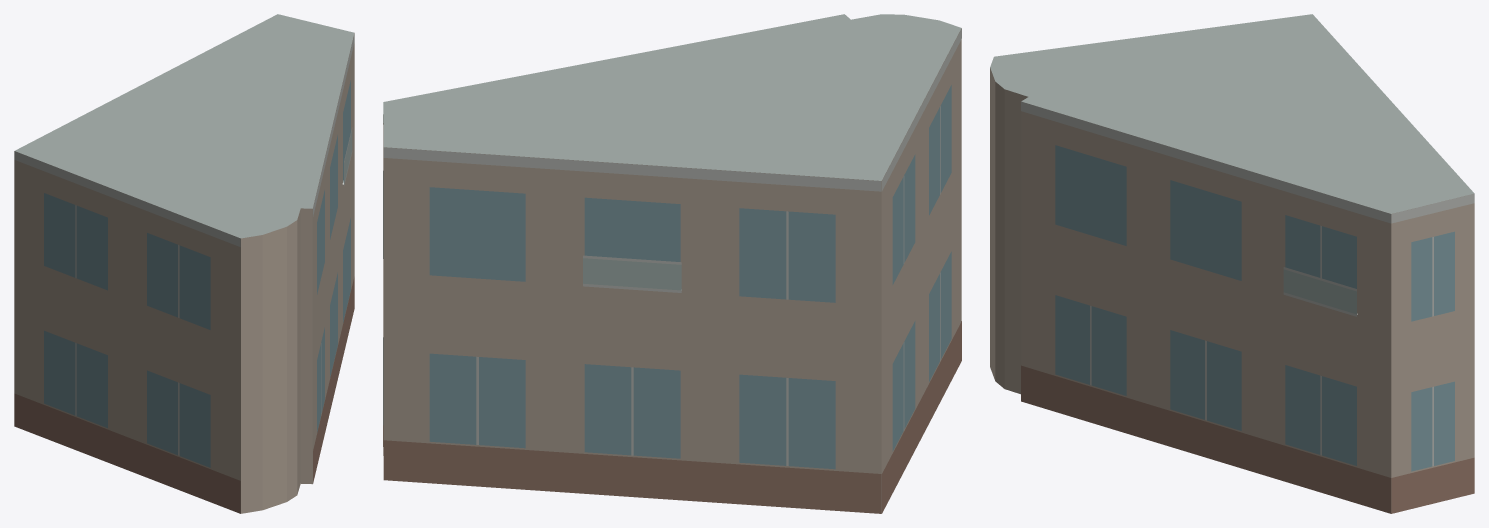
The model's file is survey-upis-32659539.glb.
The picture shows the model from 3 angles, left to right: view 1: azimuth 30°, elevation 25°; view 2: azimuth 150°, elevation 25°; view 3: azimuth 270°, elevation 25°; orthographic projection. The views are drawn at different scales.
Parts seen in each view (by area): view 1: survey-upis-32659539.tmp; view 2: survey-upis-32659539.tmp; view 3: survey-upis-32659539.tmp.
Boxes of the visible parts, x1,y1,x2,y2 form: survey-upis-32659539.tmp: (14,14,354,513); survey-upis-32659539.tmp: (383,14,961,513); survey-upis-32659539.tmp: (990,14,1474,513).
Size of the model in its own units: 10.88 by 7.6 by 11.14.
